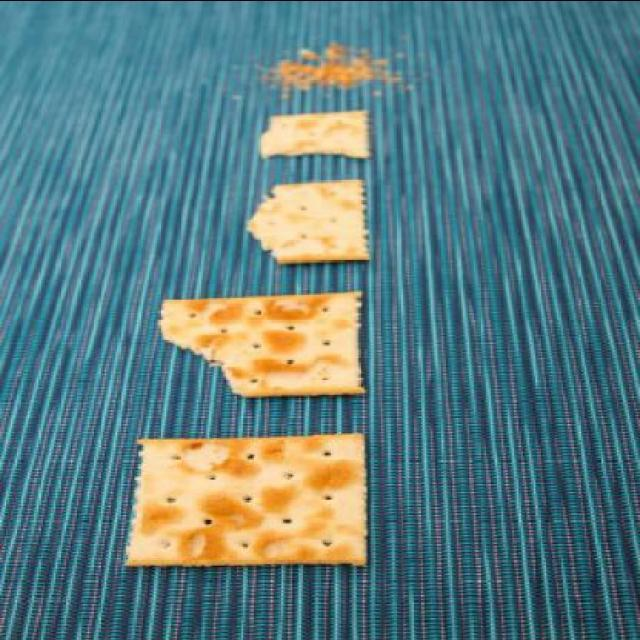Cracker packaged: (115, 417, 374, 575), (150, 277, 376, 411), (235, 173, 376, 270), (256, 99, 372, 167)
